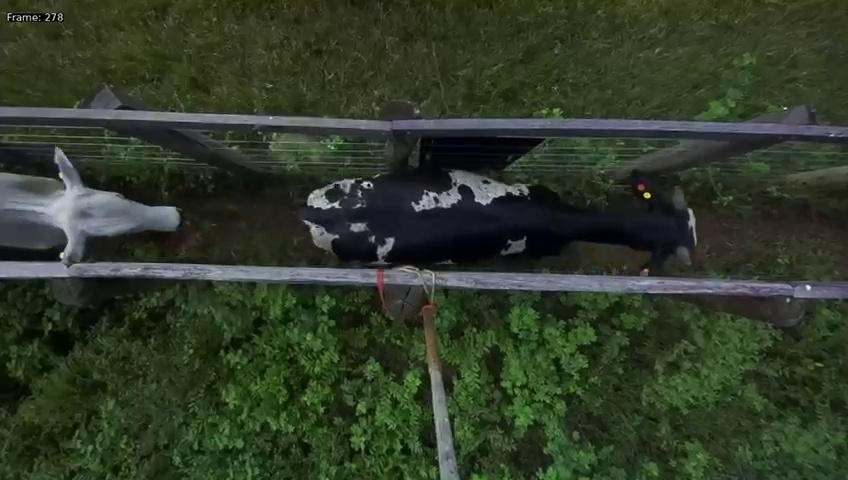cattle: (287, 150, 704, 285)
